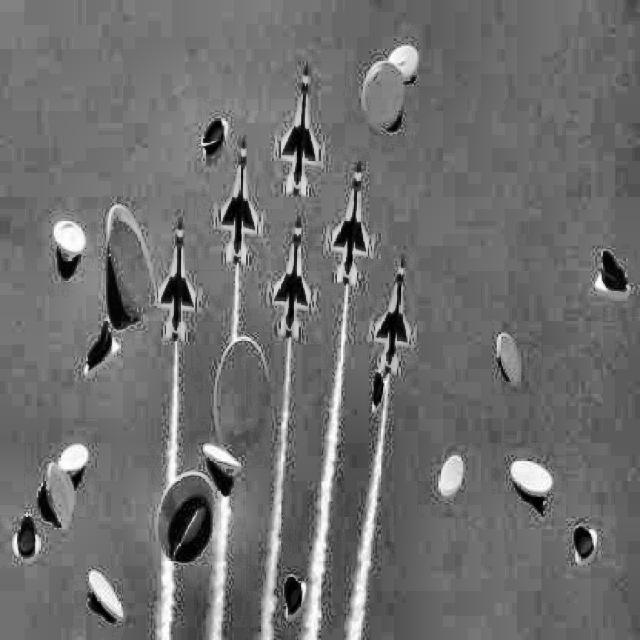F16: (274, 59, 324, 198), (324, 158, 376, 288), (213, 135, 264, 267), (267, 215, 318, 340), (155, 214, 202, 341), (369, 255, 416, 376)
